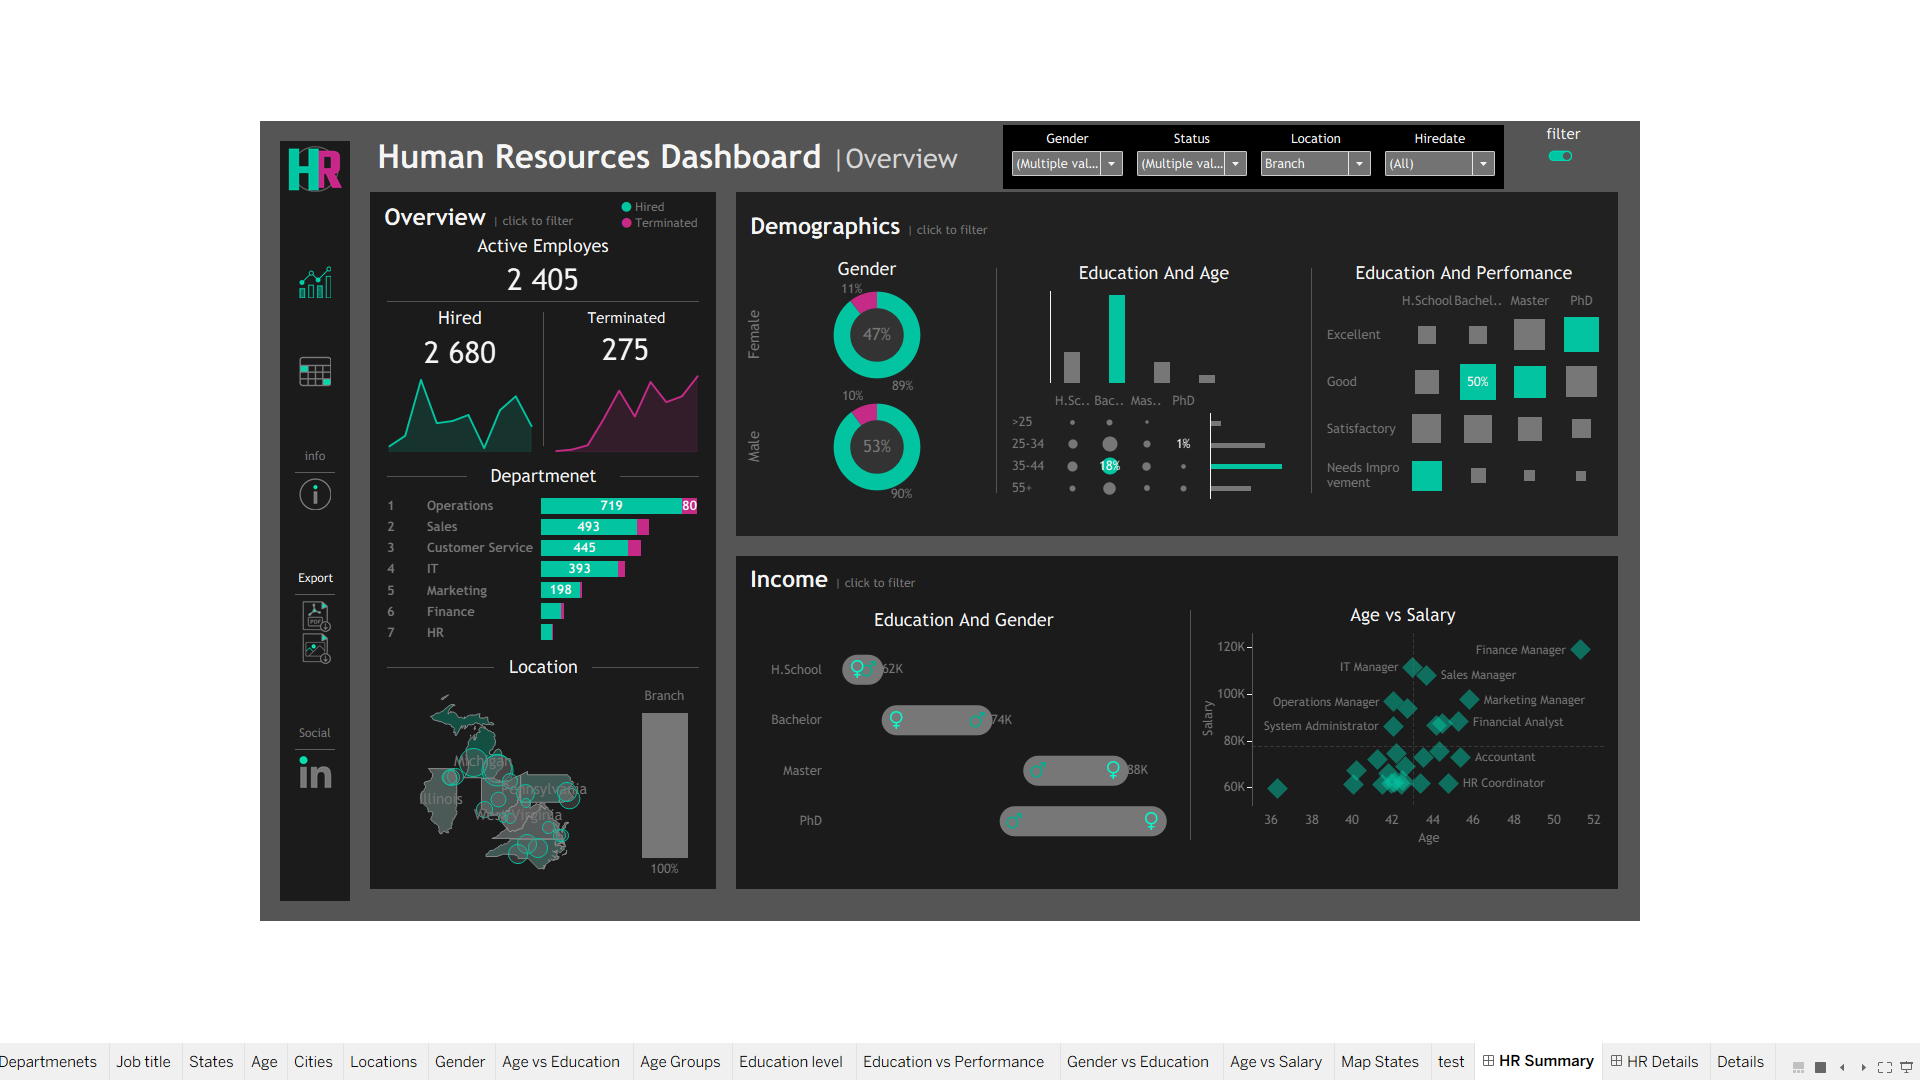

Layout of this report page (visuals, bound fields, positions):
{"tool":"tableau","page":{"name":"HR Summary","canvas":[1400,800],"ordinal":1},"visuals":[{"type":"blank","box":[92,0,1277,256]},{"type":"text","box":[110,0,678,71]},{"type":"blank","box":[788,0,570,71]},{"type":"filter","title":"Gender vs Education","param":"[federated.1f1amyv13imfoo151mt8w1kifsjf].[none:Gender:nk]","box":[745,6,125,60]},{"type":"filter","title":"Gender vs Education","param":"[federated.1f1amyv13imfoo151mt8w1kifsjf].[none:Calculation_0745258869231616:nk]","box":[870,6,124,60]},{"type":"filter","title":"Gender vs Education","param":"[federated.1f1amyv13imfoo151mt8w1kifsjf].[none:Calculation_2092984874586118:nk]","box":[994,6,124,60]},{"type":"filter","title":"Gender vs Education","param":"[federated.1f1amyv13imfoo151mt8w1kifsjf].[yr:Hiredate:ok]","box":[1118,6,124,60]},{"type":"text","box":[1244,6,119,14]},{"type":"image","param":"Image/Logo.png","box":[20,20,70,55]},{"type":"dashboard-object","box":[1288,23,24,24]},{"type":"blank","box":[20,75,70,60]},{"type":"text","box":[358,75,86,40]},{"type":"text","box":[117,78,332,35]},{"type":"text","box":[483,78,868,54]},{"type":"text","box":[117,113,332,26]},{"type":"text","box":[483,137,253,21]},{"type":"blank","box":[736,137,1,245]},{"type":"text","box":[742,137,304,29]},{"type":"blank","box":[1051,137,1,245]},{"type":"text","box":[1057,137,294,29]},{"type":"worksheet","title":"BAN Active","mark":"Text","box":[117,139,332,41]},{"type":"dashboard-object","box":[30,145,50,32]},{"type":"worksheet","title":"Gender","mark":"Pie","rows":["Gender"],"cols":["Calculation_2092984883666952","Calculation_2092984883666952"],"box":[483,158,253,224]},{"type":"worksheet","title":"Education level","mark":"Bar","rows":["Calculation_2092984841060352"],"cols":["Education Level"],"box":[742,166,304,100]},{"type":"worksheet","title":"Education vs Performance","mark":"Square","rows":["Performance Rating"],"cols":["Education Level"],"box":[1057,166,294,216]},{"type":"blank","box":[30,177,50,57.5]},{"type":"blank","box":[117,180,332,1]},{"type":"text","box":[117,181,166,32]},{"type":"blank","box":[283,181,1,154]},{"type":"text","box":[284,181,164.9,32]},{"type":"worksheet","title":"BAN Hired","mark":"Text","box":[117,213,166,37]},{"type":"worksheet","title":"BAN Terminated","mark":"Text","box":[284,213,164.9,32]},{"type":"dashboard-object","box":[30,234.5,50,32]},{"type":"worksheet","title":"Terminated By Year","mark":"Line","rows":["Calculation_2092984841363457","Calculation_2092984841363457"],"cols":["Termdate"],"box":[284,245,164.9,90]},{"type":"worksheet","title":"Hired By Year","mark":"Line","rows":["Calculation_2092984841060352","Calculation_2092984841060352"],"cols":["Hiredate"],"box":[117,250,166,85]},{"type":"text","box":[92,256,1277,288]},{"type":"worksheet","title":"Age vs Education","mark":"Circle","rows":["Calculation_2092984888410122"],"cols":["Education Level"],"box":[742,266,204,116]},{"type":"worksheet","title":"Age Groups","mark":"Bar","rows":["Calculation_2092984888410122"],"cols":["Calculation_2092984841060352"],"box":[946,266,100,116]},{"type":"blank","box":[30,266.5,50,57.5]},{"type":"text","box":[30,324,50,22]},{"type":"blank","box":[127,340,80,30]},{"type":"text","box":[207,340,153,30]},{"type":"blank","box":[360,340,79,30]},{"type":"blank","box":[30,346,50,11]},{"type":"dashboard-object","box":[30,357,50,32]},{"type":"worksheet","title":"Departmenets","mark":"Bar","rows":["Calculation_2092984873529349","Department"],"cols":["Calculation_2092984841060352"],"box":[117,370,332,156]},{"type":"blank","box":[30,389,50,57.5]},{"type":"text","box":[483,442,868,32]},{"type":"text","box":[30,446.5,50,22]},{"type":"blank","box":[30,468.5,50,11]},{"type":"text","box":[483,479,442.5,40]},{"type":"blank","box":[930.5,479,1,250]},{"type":"text","box":[936.5,479,414.5,29]},{"type":"dashboard-object","box":[30,479.5,50,32]},{"type":"worksheet","title":"Age vs Salary","mark":"Shape","rows":["Salary"],"cols":["Calculation_2092984887447561"],"box":[936.5,508,414.5,221]},{"type":"dashboard-object","box":[30,511.5,50,32]},{"type":"worksheet","title":"Gender vs Education","mark":"Square","rows":["Education Level"],"cols":["Salary","Salary"],"box":[483,519,442.5,210]},{"type":"blank","box":[127,531,106.7,30]},{"type":"text","box":[233.7,531,98.7,30]},{"type":"blank","box":[332.3,531,106.7,30]},{"type":"blank","box":[30,543.5,50,57.5]},{"type":"blank","box":[92,544,1277,256]},{"type":"worksheet","title":"Map States","mark":"Automatic","box":[117,561,243,200]},{"type":"worksheet","title":"Locations","mark":"Bar","rows":["Calculation_2092984841060352"],"cols":["Calculation_2092984874586118","Calculation1"],"box":[360,561,89,200]},{"type":"text","box":[30,601,50,22]},{"type":"blank","box":[30,623,50,11]},{"type":"image","param":"Image/contact-linkedin.png","box":[30,634,50,34]},{"type":"blank","box":[483,729,868,32]}]}

Visuals, with their boxes on the page's 1400x800 design canvas (x1, y1, x2, y2). These are canvas units, not pixel positions in the 1920x1080 screenshot, which may show the page scaled, cropped or inside an application window:
blank: rect(92, 0, 1369, 256)
text: rect(110, 0, 788, 71)
blank: rect(788, 0, 1358, 71)
"Gender vs Education" filter: rect(745, 6, 870, 66)
"Gender vs Education" filter: rect(870, 6, 994, 66)
"Gender vs Education" filter: rect(994, 6, 1118, 66)
"Gender vs Education" filter: rect(1118, 6, 1242, 66)
text: rect(1244, 6, 1363, 20)
image: rect(20, 20, 90, 75)
dashboard-object: rect(1288, 23, 1312, 47)
blank: rect(20, 75, 90, 135)
text: rect(358, 75, 444, 115)
text: rect(117, 78, 449, 113)
text: rect(483, 78, 1351, 132)
text: rect(117, 113, 449, 139)
text: rect(483, 137, 736, 158)
blank: rect(736, 137, 737, 382)
text: rect(742, 137, 1046, 166)
blank: rect(1051, 137, 1052, 382)
text: rect(1057, 137, 1351, 166)
"BAN Active" worksheet (Text marks): rect(117, 139, 449, 180)
dashboard-object: rect(30, 145, 80, 177)
"Gender" worksheet (Pie marks): rect(483, 158, 736, 382)
"Education level" worksheet (Bar marks): rect(742, 166, 1046, 266)
"Education vs Performance" worksheet (Square marks): rect(1057, 166, 1351, 382)
blank: rect(30, 177, 80, 234)
blank: rect(117, 180, 449, 181)
text: rect(117, 181, 283, 213)
blank: rect(283, 181, 284, 335)
text: rect(284, 181, 449, 213)
"BAN Hired" worksheet (Text marks): rect(117, 213, 283, 250)
"BAN Terminated" worksheet (Text marks): rect(284, 213, 449, 245)
dashboard-object: rect(30, 234, 80, 266)
"Terminated By Year" worksheet (Line marks): rect(284, 245, 449, 335)
"Hired By Year" worksheet (Line marks): rect(117, 250, 283, 335)
text: rect(92, 256, 1369, 544)
"Age vs Education" worksheet (Circle marks): rect(742, 266, 946, 382)
"Age Groups" worksheet (Bar marks): rect(946, 266, 1046, 382)
blank: rect(30, 266, 80, 324)
text: rect(30, 324, 80, 346)
blank: rect(127, 340, 207, 370)
text: rect(207, 340, 360, 370)
blank: rect(360, 340, 439, 370)
blank: rect(30, 346, 80, 357)
dashboard-object: rect(30, 357, 80, 389)
"Departmenets" worksheet (Bar marks): rect(117, 370, 449, 526)
blank: rect(30, 389, 80, 446)
text: rect(483, 442, 1351, 474)
text: rect(30, 446, 80, 468)
blank: rect(30, 468, 80, 480)
text: rect(483, 479, 926, 519)
blank: rect(930, 479, 932, 729)
text: rect(936, 479, 1351, 508)
dashboard-object: rect(30, 480, 80, 512)
"Age vs Salary" worksheet (Shape marks): rect(936, 508, 1351, 729)
dashboard-object: rect(30, 512, 80, 544)
"Gender vs Education" worksheet (Square marks): rect(483, 519, 926, 729)
blank: rect(127, 531, 234, 561)
text: rect(234, 531, 332, 561)
blank: rect(332, 531, 439, 561)
blank: rect(30, 544, 80, 601)
blank: rect(92, 544, 1369, 800)
"Map States" worksheet: rect(117, 561, 360, 761)
"Locations" worksheet (Bar marks): rect(360, 561, 449, 761)
text: rect(30, 601, 80, 623)
blank: rect(30, 623, 80, 634)
image: rect(30, 634, 80, 668)
blank: rect(483, 729, 1351, 761)
